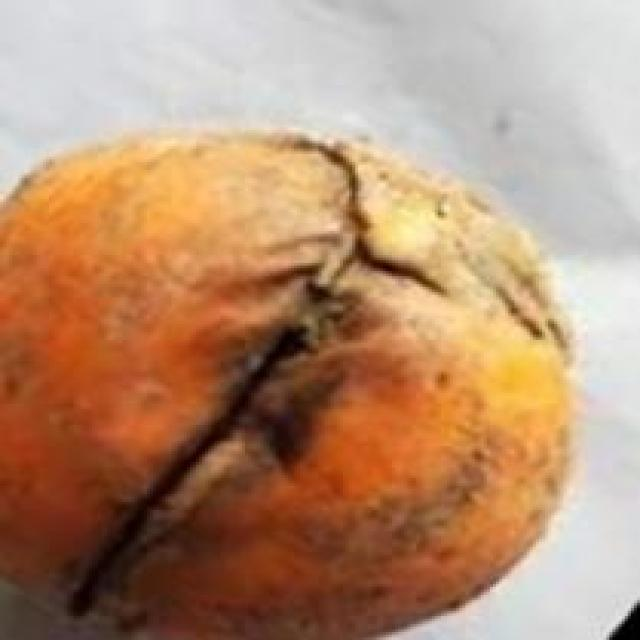damaged: (3, 127, 570, 637)
